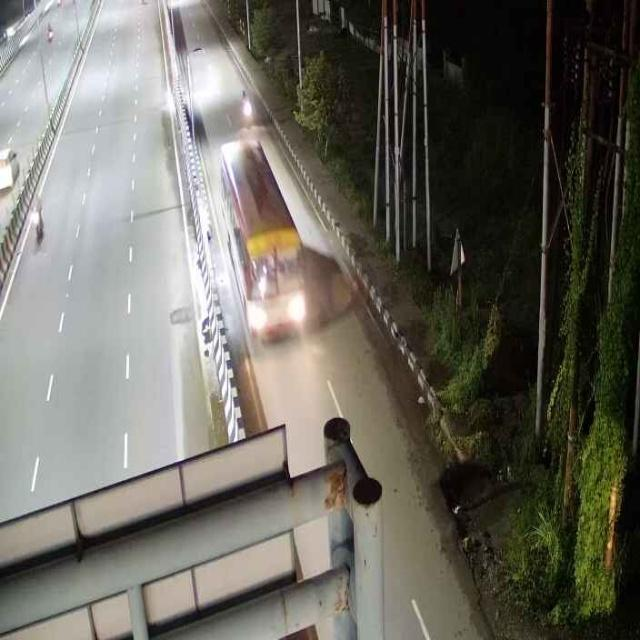car: (0, 144, 19, 199)
